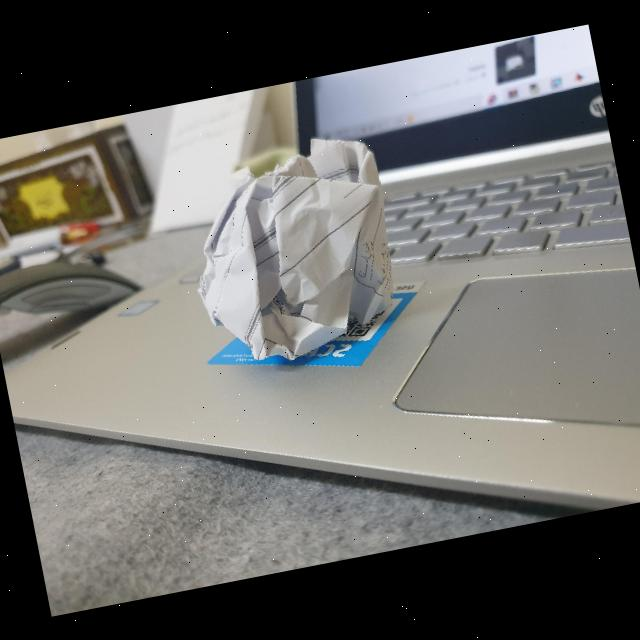trash: (160, 111, 424, 385)
